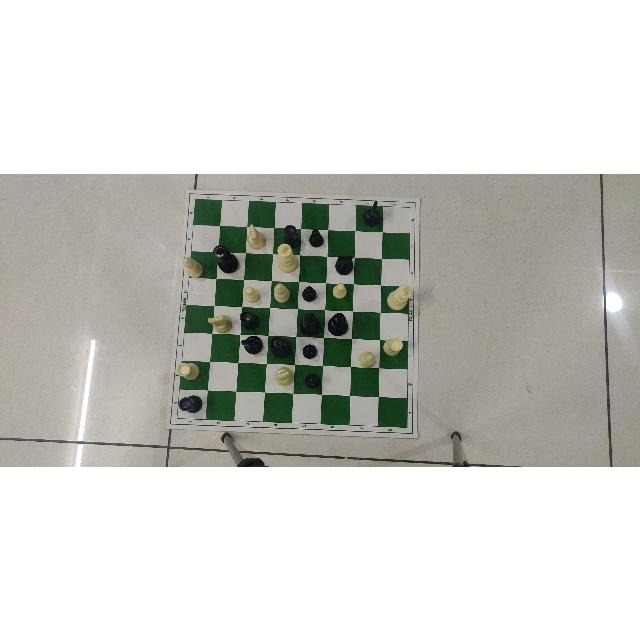black-king: (213, 243, 239, 273), (299, 310, 322, 335)
black-knight: (362, 199, 382, 227), (240, 333, 263, 354), (334, 254, 355, 276)
black-pawn: (308, 228, 324, 248), (305, 372, 321, 388), (302, 343, 318, 359), (301, 284, 316, 301)
black-queen: (269, 336, 293, 360), (327, 310, 349, 335)
black-rook: (177, 393, 201, 416), (177, 393, 202, 412), (283, 223, 301, 249), (239, 309, 259, 331)
white-bishop: (182, 255, 204, 278), (272, 281, 290, 303), (357, 349, 376, 368)
white-king: (387, 282, 411, 311), (277, 242, 299, 272)
white-knight: (207, 311, 232, 334), (246, 223, 266, 250), (273, 365, 295, 387)
white-pawn: (243, 285, 260, 303), (331, 281, 348, 298)
white-rook: (176, 360, 200, 380), (383, 336, 403, 358)
